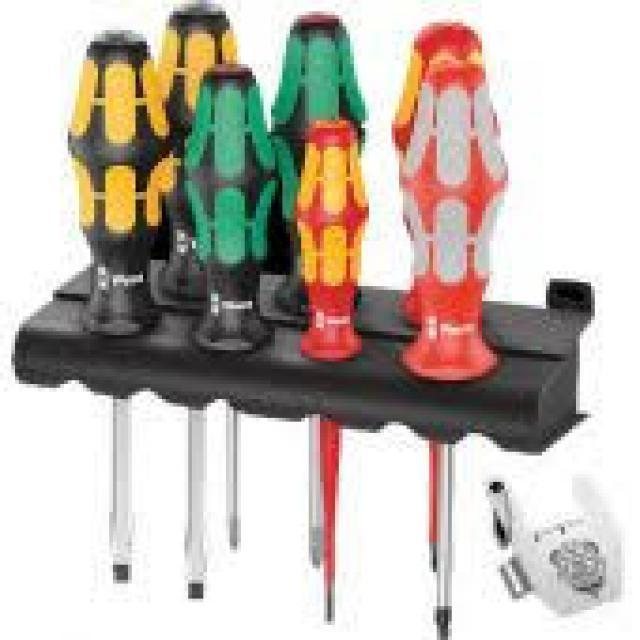screwdriver: (388, 19, 512, 640), (64, 26, 173, 588), (271, 8, 369, 572), (154, 4, 245, 606), (180, 62, 282, 555), (294, 122, 372, 630)
